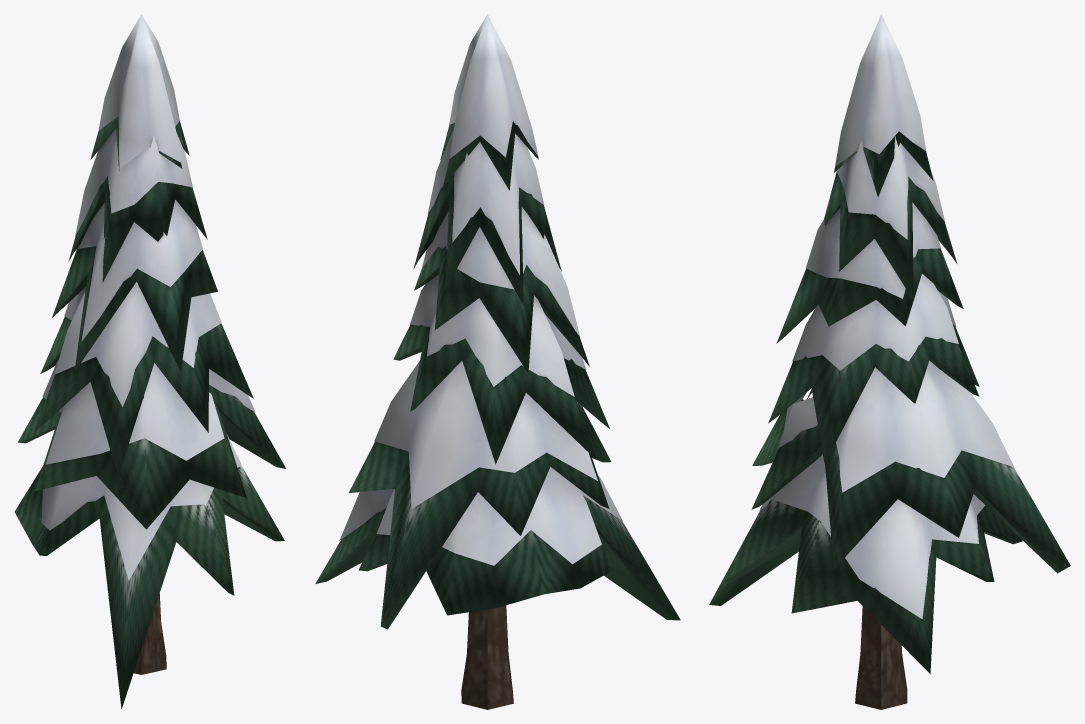
The model's file is pine_snow_tall.glb.
3 renders of one model, left to right at view 1: azimuth 30°, elevation 25°; view 2: azimuth 150°, elevation 25°; view 3: azimuth 270°, elevation 25°, orthographic. The views are drawn at different scales.
Visible parts, largest first — view 1: root_mesh; view 2: root_mesh; view 3: root_mesh.
Boxes of the visible parts, x1,y1,x2,y2 form: root_mesh: (14, 14, 286, 708); root_mesh: (315, 14, 680, 709); root_mesh: (709, 14, 1070, 709).
Size of the model in its own units: 0.7952 by 1.96 by 0.9405.
1 material, 1 textured.
